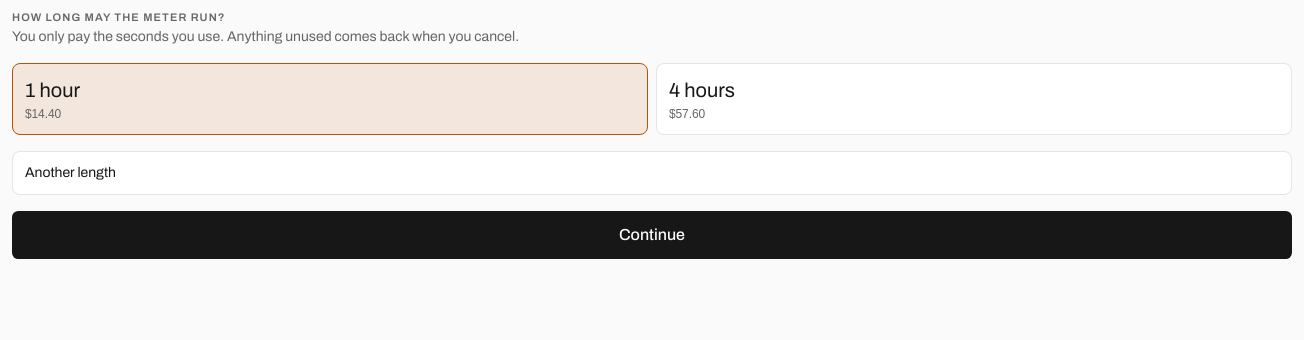
Test case: CapStep › will not continue on a custom duration that is not a number
Click the button "Another length". click: (70, 172)
box: [12, 151, 1292, 195]
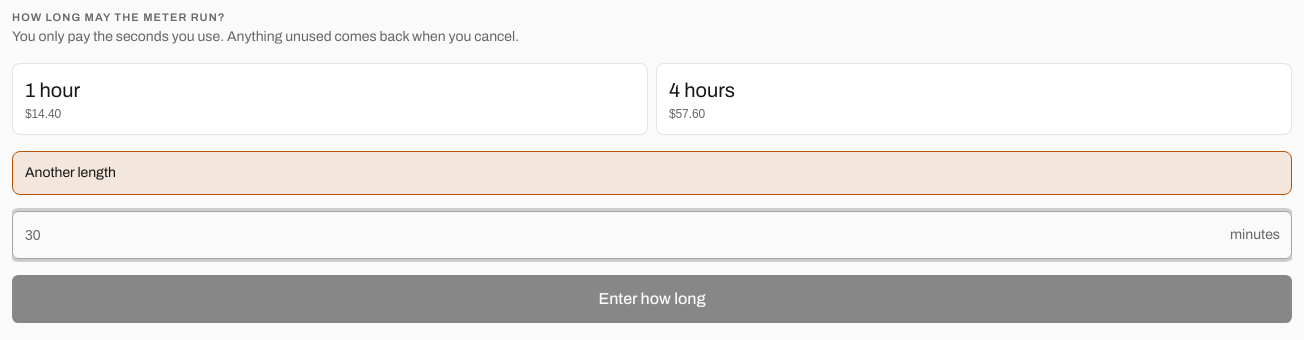
Now the button "Enter how long" is disabled, box [12, 275, 1292, 323]
